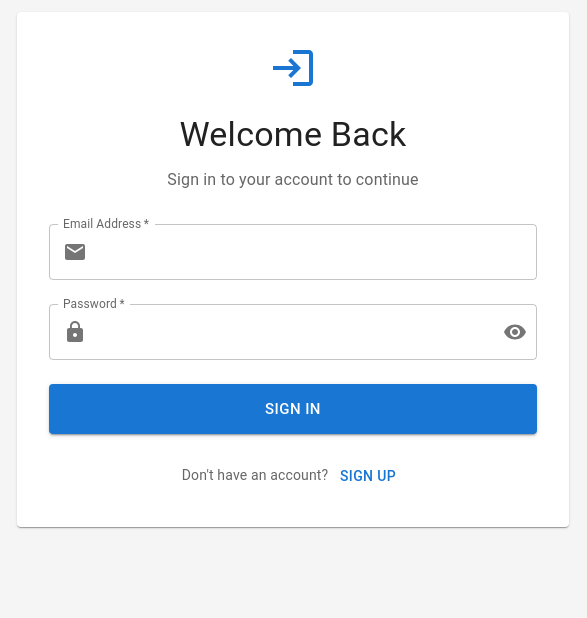
it: LoginPage Component › handles login failure
Step 1. Type "test@example.com" into the field labelled "Email Address *" → (316, 252), box [95,224,537,280]
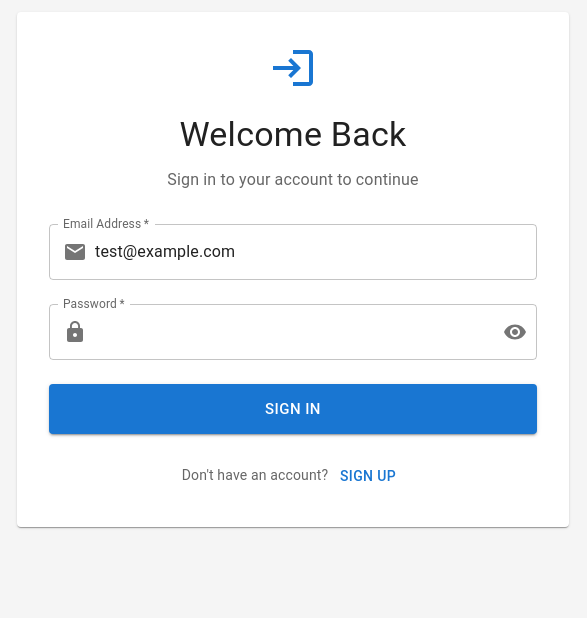
Step 2. Type "wrongpassword" into the password field labelled "Password *" → (291, 332), box [95,304,487,360]
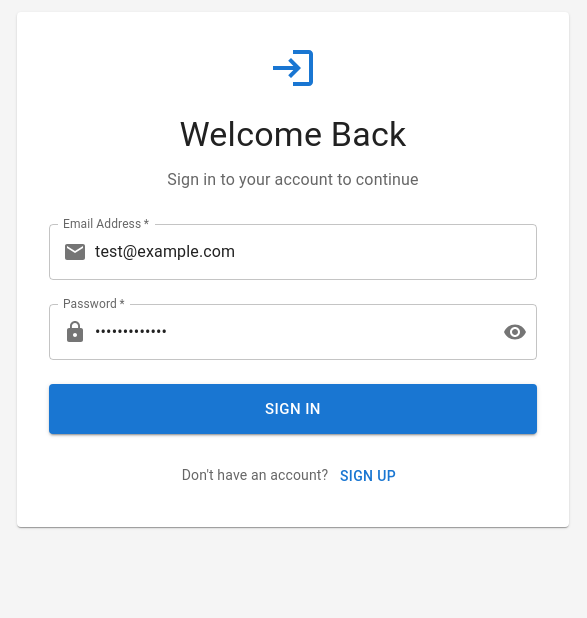
Step 3. Click the button "Sign In" → (293, 409), box [49,384,537,434]
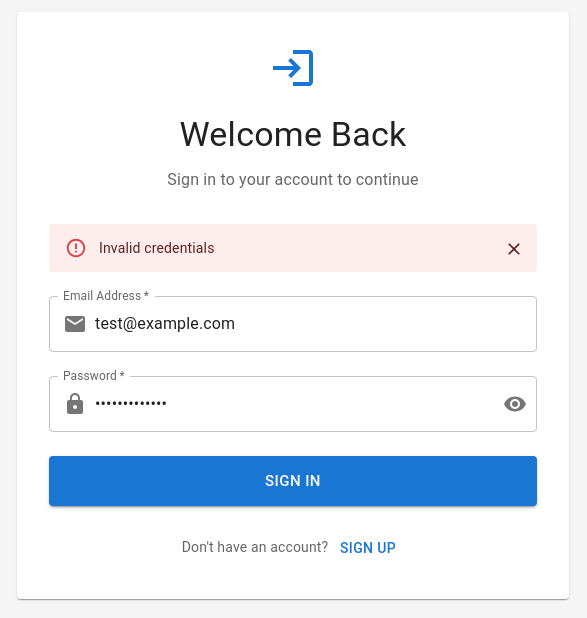
Check: the text "Invalid credentials" is shown, box [99,240,214,256]
